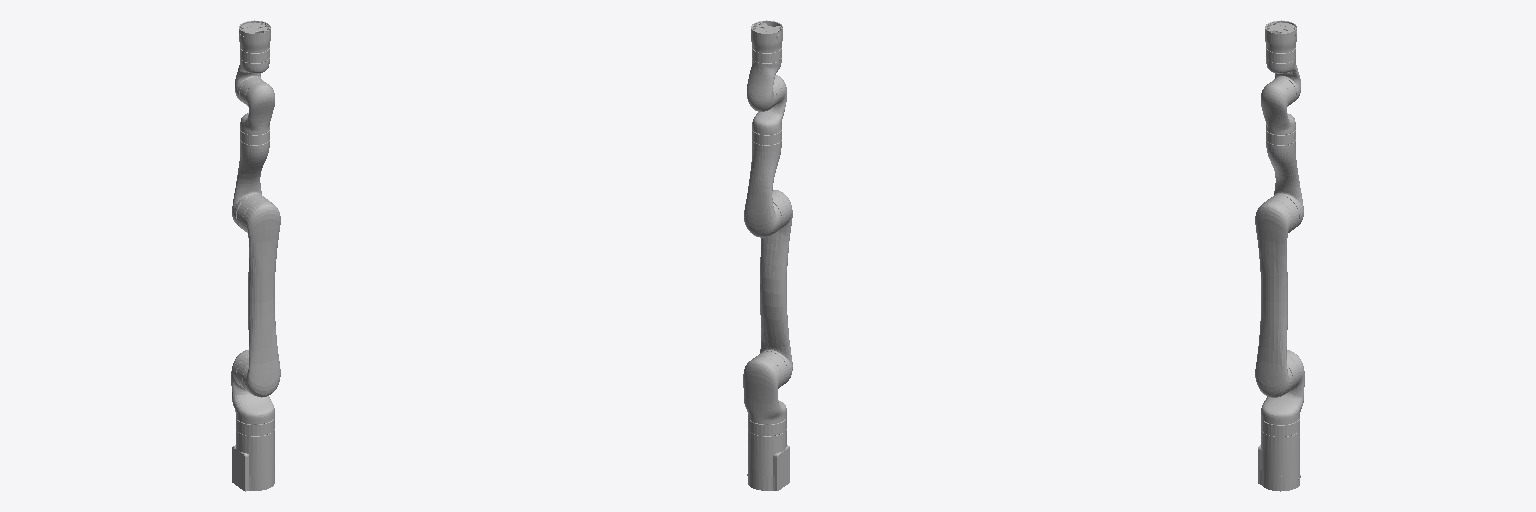
robot.urdf — GEN3:
<robot name="GEN3">
  <link name="base_link">
    <inertial>
      <origin xyz="-0.000648 -0.000166 0.084487" rpy="0 0 0" />
      <mass value="1.697" />
      <inertia ixx="0.004622" ixy="9E-06" ixz="6E-05" iyy="0.004495" iyz="9E-06" izz="0.002079" />
    </inertial>
    <visual>
      <origin xyz="0 0 0" rpy="0 0 0" />
      <geometry>
        <mesh filename="package://kortex_description/arms/gen3/6dof/meshes/base_link.obj" />
      </geometry>
      <material name="">
        <color rgba="0.75294 0.75294 0.75294 1" />
      </material>
    </visual>
    <!-- <collision>
      <origin xyz="0 0 0" rpy="0 0 0" />
      <geometry>
        <mesh filename="package://kortex_description/arms/gen3/6dof/meshes/base_link.obj" />
      </geometry>
    </collision> -->
  </link>
  <link name="shoulder_link">
    <inertial>
      <origin xyz="-2.3E-05 -0.010364 -0.07336" rpy="0 0 0" />
      <mass value="1.377" />
      <inertia ixx="0.00457" ixy="1E-06" ixz="2E-06" iyy="0.004831" iyz="0.000448" izz="0.001409" />
    </inertial>
    <visual>
      <origin xyz="0 0 0" rpy="0 0 0" />
      <geometry>
        <mesh filename="package://kortex_description/arms/gen3/6dof/meshes/shoulder_link.obj" />
      </geometry>
      <material name="">
        <color rgba="0.75294 0.75294 0.75294 1" />
      </material>
    </visual>
    <!-- <collision>
      <origin xyz="0 0 0" rpy="0 0 0" />
      <geometry>
        <mesh filename="package://kortex_description/arms/gen3/6dof/meshes/shoulder_link.obj" />
      </geometry>
    </collision> -->
  </link>
  <joint name="joint_1" type="continuous">
    <origin xyz="0 0 0.15643" rpy="-3.1416 0 0" />
    <parent link="base_link" />
    <child link="shoulder_link" />
    <axis xyz="0 0 1" />
    <limit effort="39" velocity="1.3963" />
  </joint>
  <link name="bicep_link">
    <inertial>
      <origin xyz="3.5E-05 -0.208207 -0.01889" rpy="0 0 0" />
      <mass value="1.262" />
      <inertia ixx="0.046752" ixy="-9E-06" ixz="0" iyy="0.00085" iyz="-9.8E-05" izz="0.047188" />
    </inertial>
    <visual>
      <origin xyz="0 0 0" rpy="0 0 0" />
      <geometry>
        <mesh filename="package://kortex_description/arms/gen3/6dof/meshes/bicep_link.obj" />
      </geometry>
      <material name="">
        <color rgba="0.75294 0.75294 0.75294 1" />
      </material>
    </visual>
    <!-- <collision>
      <origin xyz="0 0 0" rpy="0 0 0" />
      <geometry>
        <mesh filename="package://kortex_description/arms/gen3/6dof/meshes/bicep_link.obj" />
      </geometry>
    </collision> -->
  </link>
  <joint name="joint_2" type="revolute">
    <origin xyz="0 0.005375 -0.12838" rpy="1.5708 0 0" />
    <parent link="shoulder_link" />
    <child link="bicep_link" />
    <axis xyz="0 0 1" />
    <limit lower="-2.24" upper="2.24" effort="39" velocity="1.3963" />
  </joint>
  <link name="forearm_link">
    <inertial>
      <origin xyz="1.8E-05 0.076168 -0.01397" rpy="0 0 0" />
      <mass value="0.93" />
      <inertia ixx="0.008292" ixy="-1E-06" ixz="0" iyy="0.000628" iyz="0.000432" izz="0.008464" />
    </inertial>
    <visual>
      <origin xyz="0 0 0" rpy="0 0 0" />
      <geometry>
        <mesh filename="package://kortex_description/arms/gen3/6dof/meshes/forearm_link.obj" />
      </geometry>
      <material name="">
        <color rgba="0.75294 0.75294 0.75294 1" />
      </material>
    </visual>
    <!-- <collision>
      <origin xyz="0 0 0" rpy="0 0 0" />
      <geometry>
        <mesh filename="package://kortex_description/arms/gen3/6dof/meshes/forearm_link.obj" />
      </geometry>
    </collision> -->
  </link>
  <joint name="joint_3" type="revolute">
    <origin xyz="0 -0.41 0" rpy="3.1416 0 0" />
    <parent link="bicep_link" />
    <child link="forearm_link" />
    <axis xyz="0 0 1" />
    <limit lower="-2.57" upper="2.57" effort="39" velocity="1.3963" />
  </joint>
  <link name="spherical_wrist_1_link">
    <inertial>
      <origin xyz="-1E-06 0.008486 -0.062937" rpy="0 0 0" />
      <mass value="0.678" />
      <inertia ixx="0.001645" ixy="0" ixz="0" iyy="0.001666" iyz="-0.000234" izz="0.000389" />
    </inertial>
    <visual>
      <origin xyz="0 0 0" rpy="0 0 0" />
      <geometry>
        <mesh filename="package://kortex_description/arms/gen3/6dof/meshes/spherical_wrist_1_link.obj" />
      </geometry>
      <material name="">
        <color rgba="0.75294 0.75294 0.75294 1" />
      </material>
    </visual>
    <!-- <collision>
      <origin xyz="0 0 0" rpy="0 0 0" />
      <geometry>
        <mesh filename="package://kortex_description/arms/gen3/6dof/meshes/spherical_wrist_1_link.obj" />
      </geometry>
    </collision> -->
  </link>
  <joint name="joint_4" type="continuous">
    <origin xyz="0 0.20843 -0.006375" rpy="1.5708 0 0" />
    <parent link="forearm_link" />
    <child link="spherical_wrist_1_link" />
    <axis xyz="0 0 1" />
    <limit effort="9" velocity="1.2218" />
  </joint>
  <link name="spherical_wrist_2_link">
    <inertial>
      <origin xyz="-1E-06 0.046429 -0.008704" rpy="0 0 0" />
      <mass value="0.678" />
      <inertia ixx="0.001685" ixy="0" ixz="0" iyy="0.0004" iyz="0.000255" izz="0.001696" />
    </inertial>
    <visual>
      <origin xyz="0 0 0" rpy="0 0 0" />
      <geometry>
        <mesh filename="package://kortex_description/arms/gen3/6dof/meshes/spherical_wrist_2_link.obj" />
      </geometry>
      <material name="">
        <color rgba="0.75294 0.75294 0.75294 1" />
      </material>
    </visual>
    <!-- <collision>
      <origin xyz="0 0 0" rpy="0 0 0" />
      <geometry>
        <mesh filename="package://kortex_description/arms/gen3/6dof/meshes/spherical_wrist_2_link.obj" />
      </geometry>
    </collision> -->
  </link>
  <joint name="joint_5" type="revolute">
    <origin xyz="0 -0.00017505 -0.10593" rpy="-1.5708 0 0" />
    <parent link="spherical_wrist_1_link" />
    <child link="spherical_wrist_2_link" />
    <axis xyz="0 0 1" />
    <limit lower="-2.09" upper="2.09" effort="9" velocity="1.2218" />
  </joint>
  <link name="bracelet_link">
    <inertial>
      <origin xyz="-9.3E-05 0.000132 -0.022905" rpy="0 0 0" />
      <mass value="0.364" />
      <inertia ixx="0.000214" ixy="0" ixz="1E-06" iyy="0.000223" iyz="-2E-06" izz="0.00024" />
    </inertial>
    <visual>
      <origin xyz="0 0 0" rpy="0 0 0" />
      <geometry>
        <mesh filename="package://kortex_description/arms/gen3/6dof/meshes/bracelet_no_vision_link.obj" />
      </geometry>
      <material name="">
        <color rgba="0.75294 0.75294 0.75294 1" />
      </material>
    </visual>
    <!-- <collision>
      <origin xyz="0 0 0" rpy="0 0 0" />
      <geometry>
        <mesh filename="package://kortex_description/arms/gen3/6dof/meshes/bracelet_no_vision_link.obj" />
      </geometry>
    </collision> -->
  </link>
  <joint name="joint_6" type="continuous">
    <origin xyz="0 0.10593 -0.00017505" rpy="1.5708 0 0" />
    <parent link="spherical_wrist_2_link" />
    <child link="bracelet_link" />
    <axis xyz="0 0 1" />
    <limit effort="9" velocity="1.2218" />
  </joint>
  <link name="end_effector_link">
    <inertial>
      <origin xyz="0 0 0" rpy="0 0 0" />
      <mass value="0" />
      <inertia ixx="0" ixy="0" ixz="0" iyy="0" iyz="0" izz="0" />
    </inertial>
  </link>
  <joint name="end_effector" type="fixed">
    <origin xyz="0 0 -0.061525" rpy="3.1416 0 -3.1416" />
    <parent link="bracelet_link" />
    <child link="end_effector_link" />
    <axis xyz="0 0 0" />
  </joint>
</robot>

--- What the picture shows (computed from the rendered views, not written in the file) ---
The picture shows the robot from 3 angles, left to right: view 1: azimuth 30°, elevation 25°; view 2: azimuth 150°, elevation 25°; view 3: azimuth 330°, elevation 25°; orthographic projection.
Robot: GEN3 — 8 links, 7 joints (3 revolute, 3 continuous, 1 fixed); root link base_link; default pose: every joint at zero.
Links seen in each view (by area): view 1: bicep_link, base_link, forearm_link, shoulder_link, spherical_wrist_1_link, bracelet_link, spherical_wrist_2_link; view 2: bicep_link, forearm_link, base_link, shoulder_link, spherical_wrist_2_link, spherical_wrist_1_link, bracelet_link; view 3: bicep_link, base_link, forearm_link, shoulder_link, spherical_wrist_1_link, bracelet_link, spherical_wrist_2_link.
Boxes of the visible links, x1,y1,x2,y2 form: bicep_link: (237,195,280,397); base_link: (232,418,274,491); forearm_link: (232,130,269,225); shoulder_link: (231,350,274,424); spherical_wrist_1_link: (240,77,274,134); bracelet_link: (239,20,270,52); spherical_wrist_2_link: (235,48,269,101); bicep_link: (760,190,792,383); forearm_link: (744,130,781,237); base_link: (747,418,789,490); shoulder_link: (743,351,787,424); spherical_wrist_2_link: (747,48,781,111); spherical_wrist_1_link: (752,75,786,134); bracelet_link: (751,20,782,52); bicep_link: (1255,195,1298,397); base_link: (1258,418,1300,491); forearm_link: (1266,130,1303,226); shoulder_link: (1261,350,1304,424); spherical_wrist_1_link: (1261,77,1295,134); bracelet_link: (1265,20,1296,52); spherical_wrist_2_link: (1266,48,1300,101).
Size in the robot's own frame: 0.0928 by 0.1127 by 1.18 metres.
7 mesh visuals loaded from 7 distinct referenced files (7 OBJ).